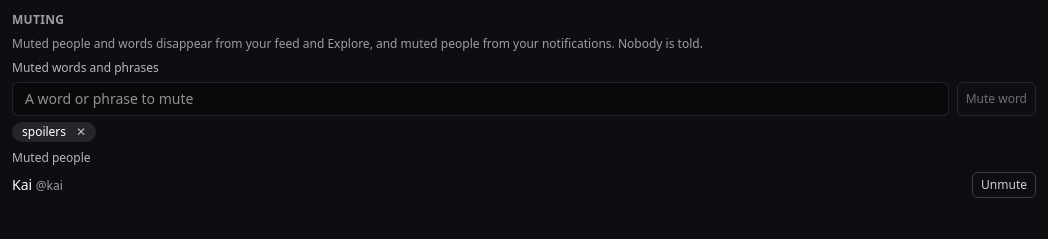
Test: MuteSettings › says why a word was refused, and keeps what was typed and the list
The width and height of the screenshot is (1048, 239).
Expected: the text "spoilers" is shown, left=22, top=124, right=66, bottom=140
Type "more" into the field labelled "A word or phrase to mute".
click(480, 99); type("more")  # box left=12, top=82, right=949, bottom=116
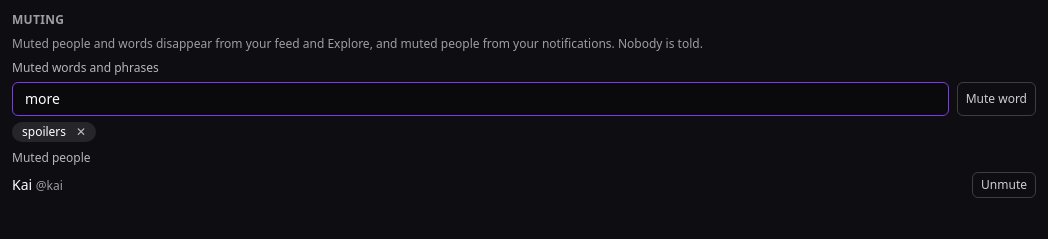
Click the button "Mute word".
click(996, 99)  # box left=957, top=82, right=1036, bottom=116
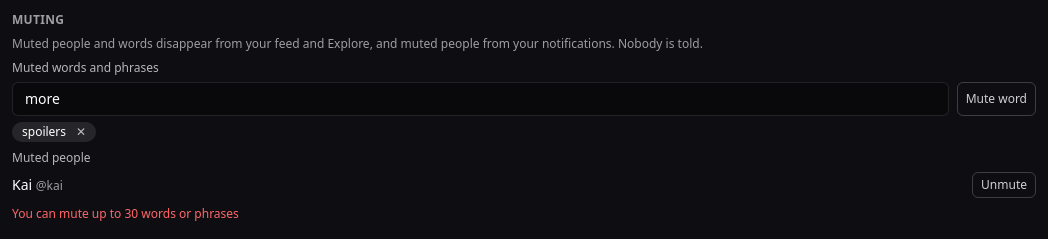
Expected: the text "spoilers" is shown, left=22, top=124, right=66, bottom=140
Expected: the message reads "You can mute up to 30 words or phrases", left=12, top=205, right=239, bottom=222
